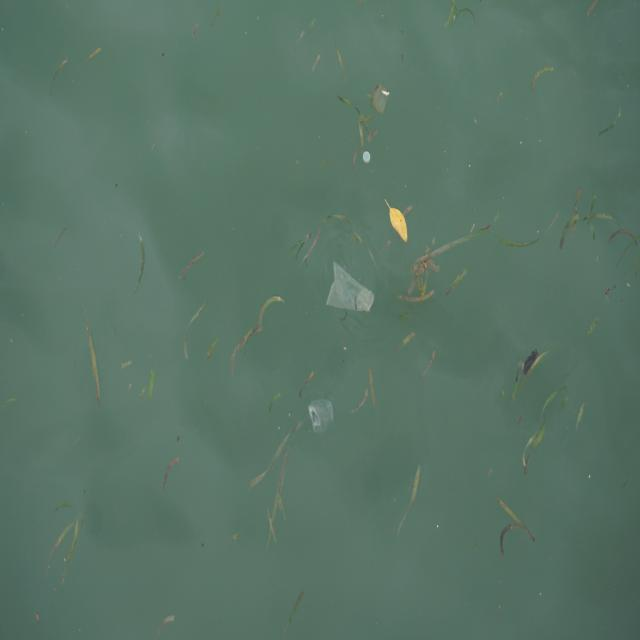Botol Plastik: (360, 148, 377, 170)
Bungkus Minuman: (308, 394, 338, 438)
Kantong Plastik: (326, 259, 378, 322)
